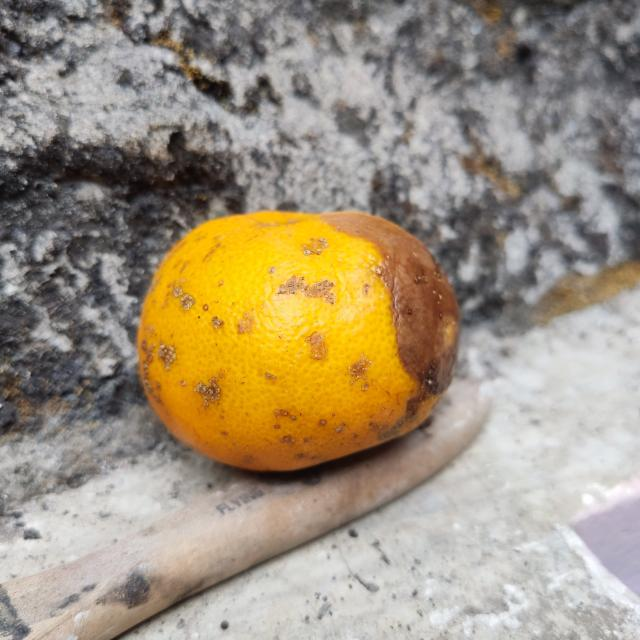orange: (134, 209, 460, 473)
